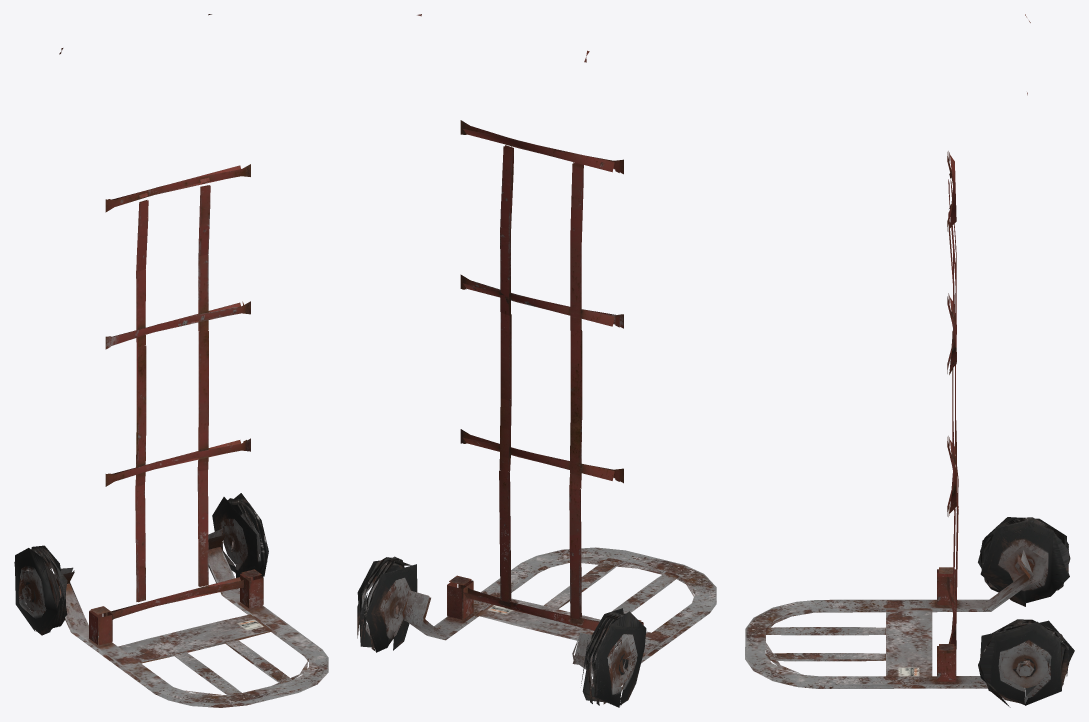
File: hand_truck.glb
3 renders of one model, left to right at view 1: azimuth 30°, elevation 25°; view 2: azimuth 150°, elevation 25°; view 3: azimuth 270°, elevation 25°, orthographic. The views are drawn at different scales.
Visible parts, largest first — view 1: hand_truck; view 2: hand_truck; view 3: hand_truck.
Part boxes in pixels (<box>): hand_truck: <box>14,14,328,707</box>; hand_truck: <box>357,14,716,707</box>; hand_truck: <box>745,14,1074,707</box>.
Size of the model in its own units: 0.5933 by 1.41 by 0.7005.
Materials: 1 (1 with a texture image).
